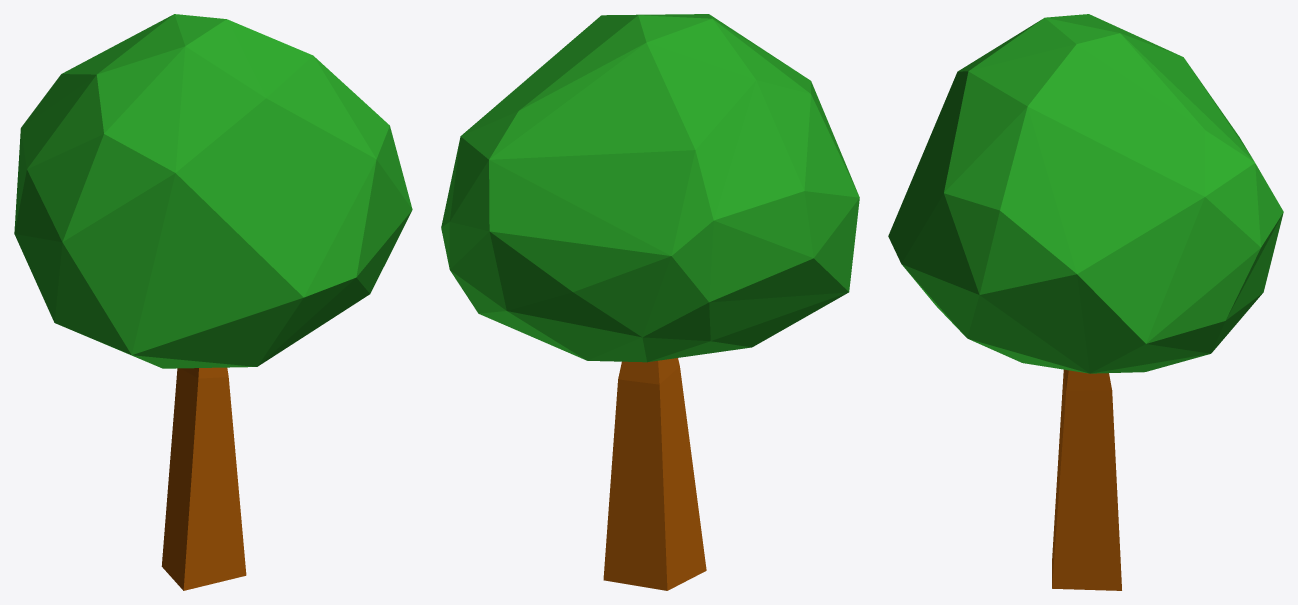
The model's file is Tree4.fbx.
The picture shows the model from 3 angles, left to right: view 1: azimuth 30°, elevation 25°; view 2: azimuth 150°, elevation 25°; view 3: azimuth 270°, elevation 25°; orthographic projection.
Parts seen in each view (by area): view 1: Tree4; view 2: Tree4; view 3: Tree4.
Boxes of the visible parts, x1,y1,x2,y2 form: Tree4: (14,14,412,590); Tree4: (441,14,859,590); Tree4: (888,14,1283,590).
Bounding box in the file's own units: 5.52 × 5.37 × 8.11.
